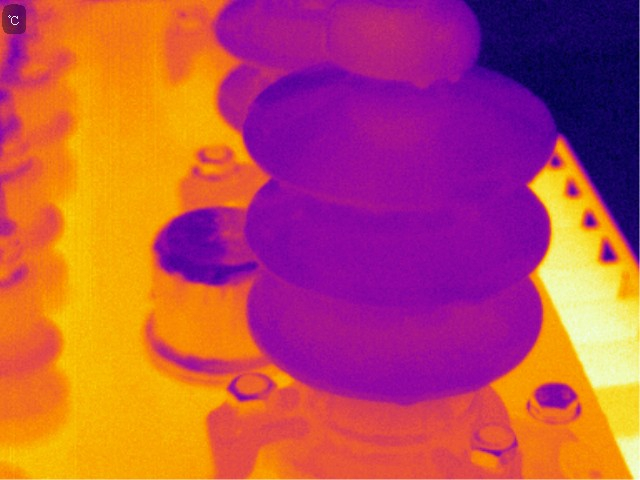Oil: (336, 3, 472, 76), (408, 71, 434, 95), (446, 67, 463, 88)
